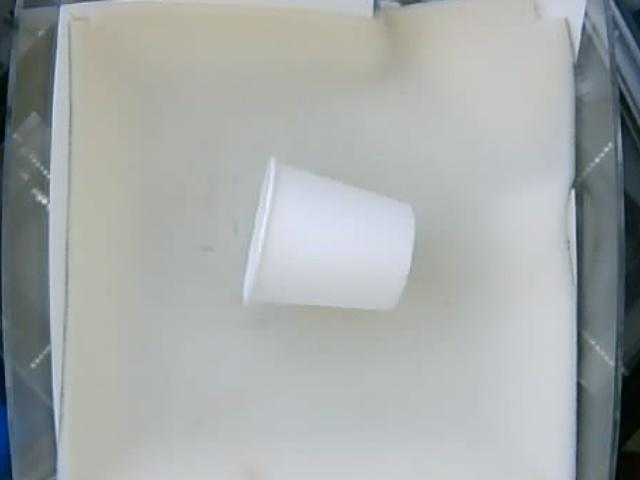Cup: (241, 152, 416, 313)
